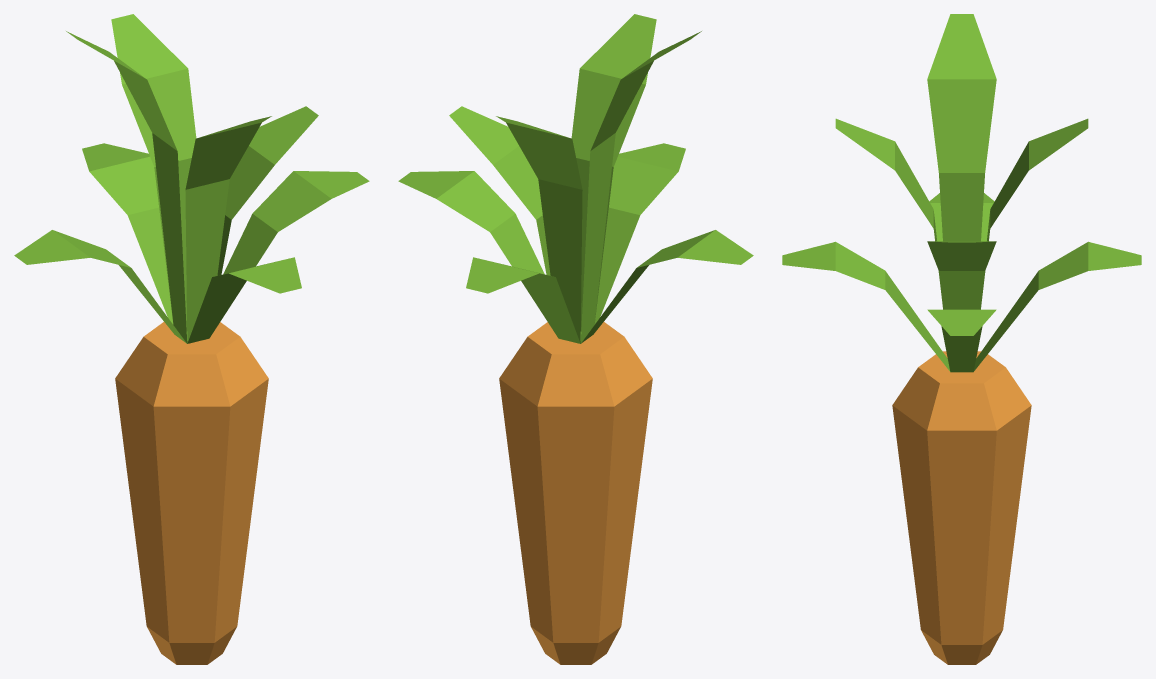
The model's file is carrot.glb.
The picture shows the model from 3 angles, left to right: view 1: azimuth 30°, elevation 25°; view 2: azimuth 150°, elevation 25°; view 3: azimuth 270°, elevation 25°; orthographic projection. The views are drawn at different scales.
Visible parts, largest first — view 1: crop_carrot; view 2: crop_carrot; view 3: crop_carrot.
Boxes of the visible parts, bbox=[...] form: crop_carrot: bbox=[14, 14, 369, 664]; crop_carrot: bbox=[398, 14, 753, 664]; crop_carrot: bbox=[782, 14, 1141, 664].
Size of the model in its own units: 0.3431 by 0.6194 by 0.3431.
